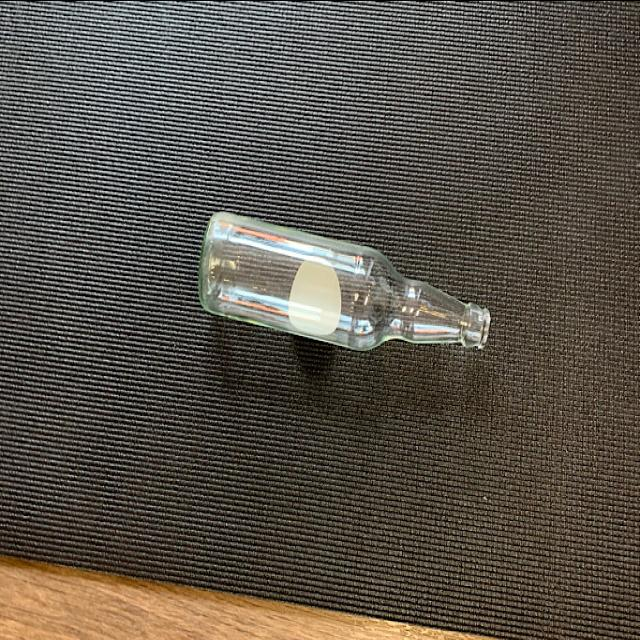Glass Bottle: (201, 205, 491, 355)
